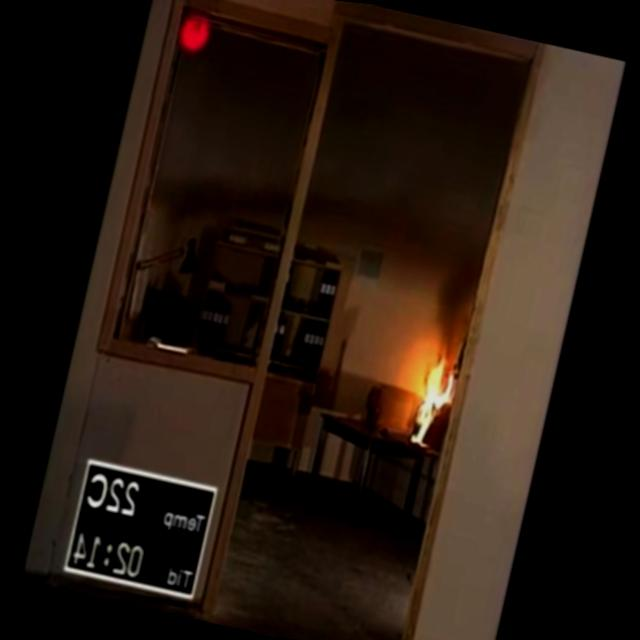fire: (368, 328, 469, 466)
